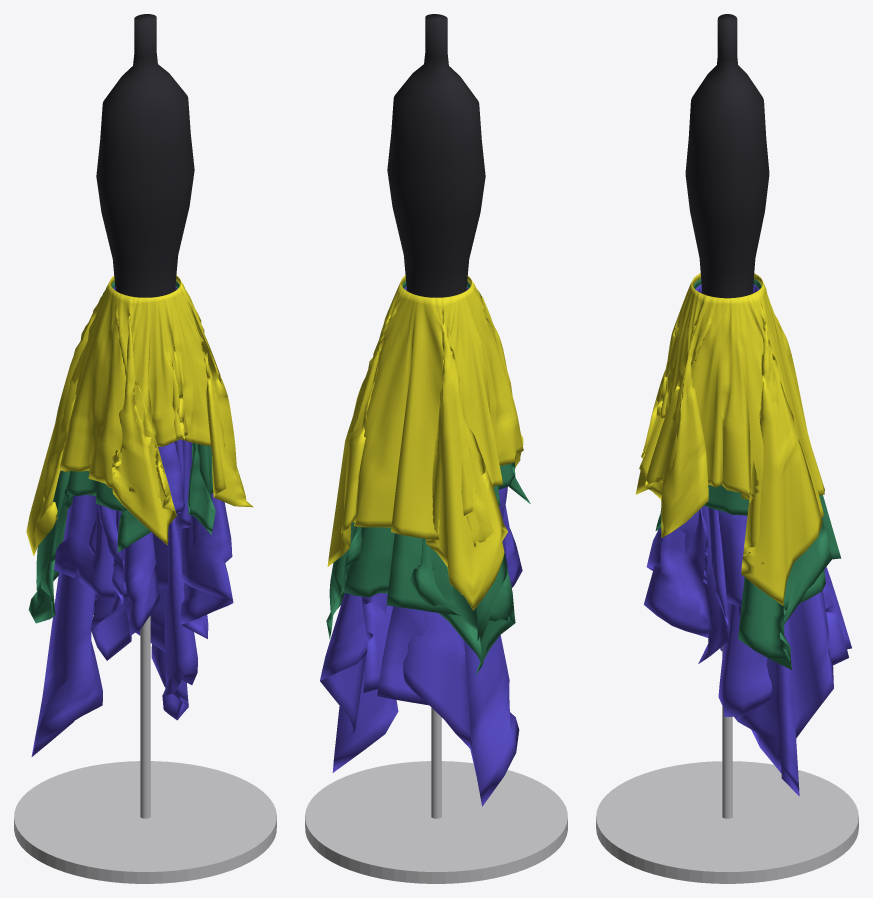
File: skirt_sim.glb
The picture shows the model from 3 angles, left to right: view 1: azimuth 30°, elevation 25°; view 2: azimuth 150°, elevation 25°; view 3: azimuth 270°, elevation 25°; orthographic projection.
Parts seen in each view (by area): view 1: Tier_25_20, Tier_40_30, Stand_Base, DressForm, Tier_30_20, Stand_Pole; view 2: Tier_25_20, Stand_Base, Tier_40_30, DressForm, Tier_30_20, Stand_Pole; view 3: Tier_25_20, Stand_Base, Tier_40_30, DressForm, Tier_30_20, Stand_Pole.
Part boxes in pixels (left/top/right/bottom): Tier_25_20: left=26, top=275, right=253, bottom=555; Tier_40_30: left=31, top=286, right=233, bottom=756; Stand_Base: left=14, top=761, right=276, bottom=883; DressForm: left=96, top=14, right=194, bottom=297; Tier_30_20: left=28, top=281, right=215, bottom=623; Stand_Pole: left=140, top=615, right=150, bottom=818; Tier_25_20: left=327, top=275, right=523, bottom=610; Stand_Base: left=305, top=761, right=567, bottom=883; Tier_40_30: left=320, top=286, right=522, bottom=806; DressForm: left=387, top=14, right=485, bottom=297; Tier_30_20: left=326, top=281, right=530, bottom=674; Stand_Pole: left=431, top=707, right=441, bottom=818; Tier_25_20: left=635, top=273, right=824, bottom=605; Stand_Base: left=596, top=761, right=858, bottom=883; Tier_40_30: left=644, top=284, right=851, bottom=796; DressForm: left=685, top=14, right=769, bottom=298; Tier_30_20: left=655, top=279, right=841, bottom=669; Stand_Pole: left=722, top=645, right=732, bottom=818.
Bounding box in the file's own units: 0.2 × 0.68 × 0.2.
